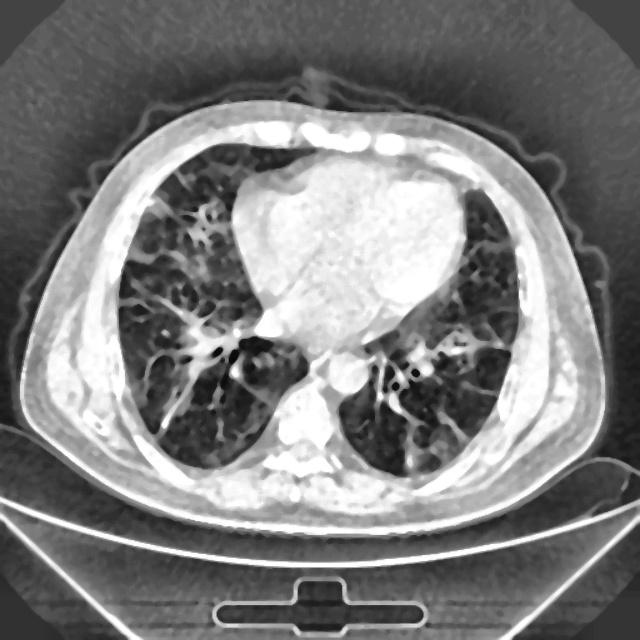covid: (20, 91, 610, 538)
